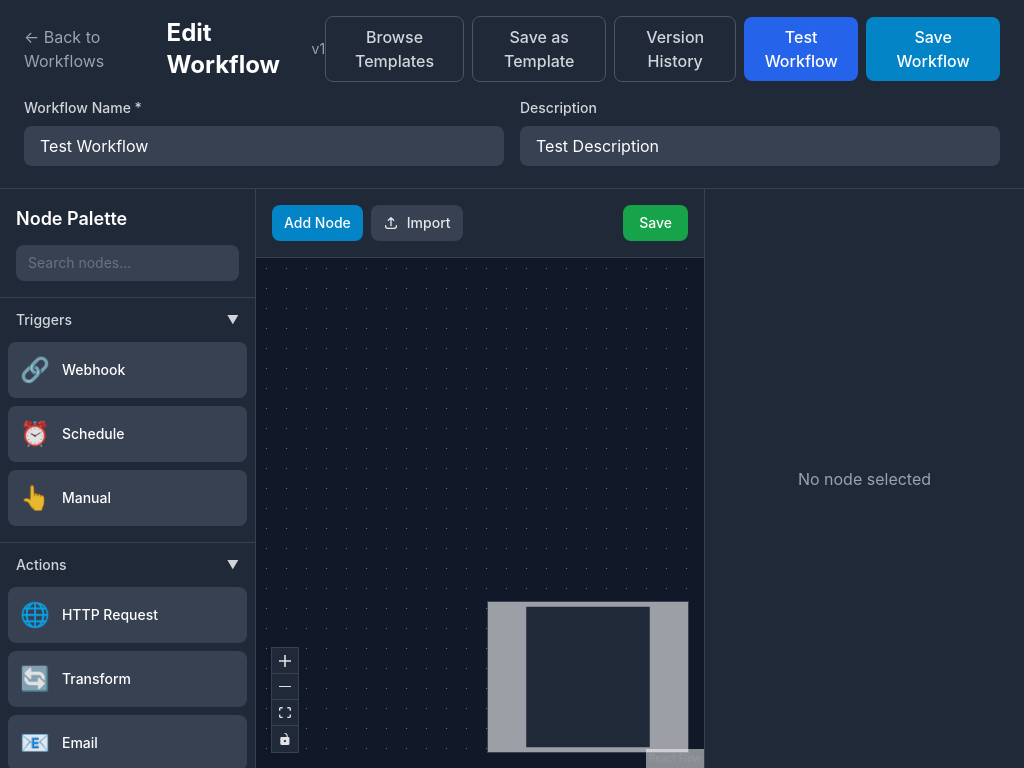
Test: WorkflowEditor › Dry Run / Test Workflow › should show dry run results on successful test
The image size is (1024, 768).
Click the button "Test Workflow" at (801, 49), box 744,17 -> 858,81
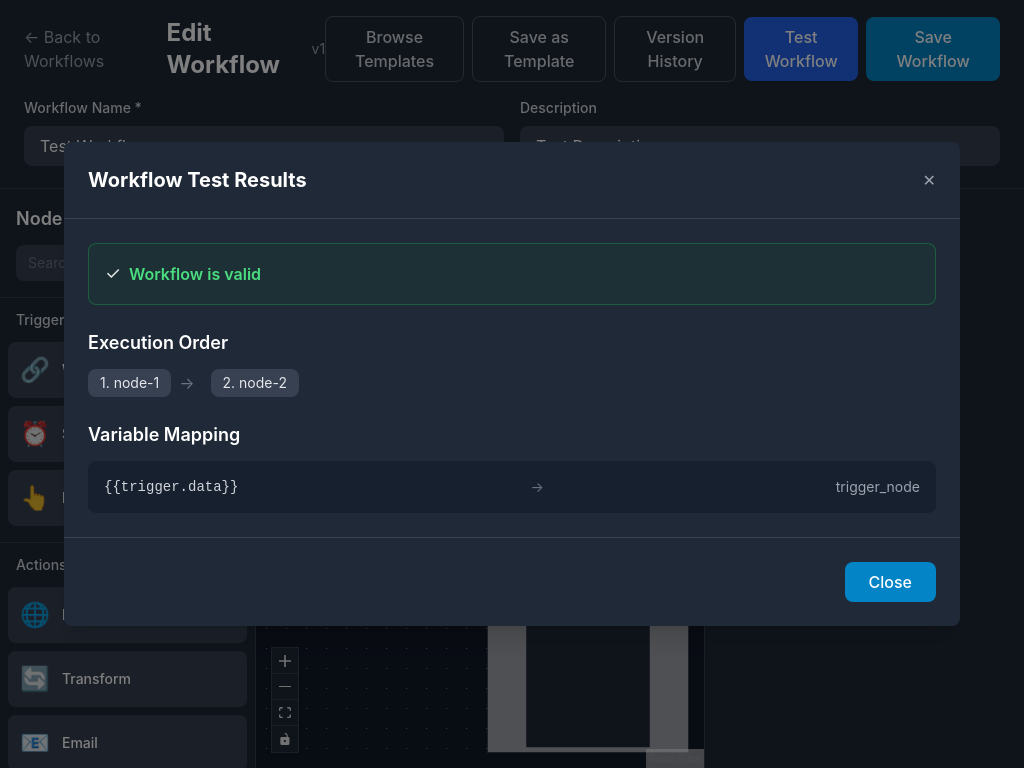
Expected: the text "Workflow is valid" is shown, 129,262 -> 261,286
